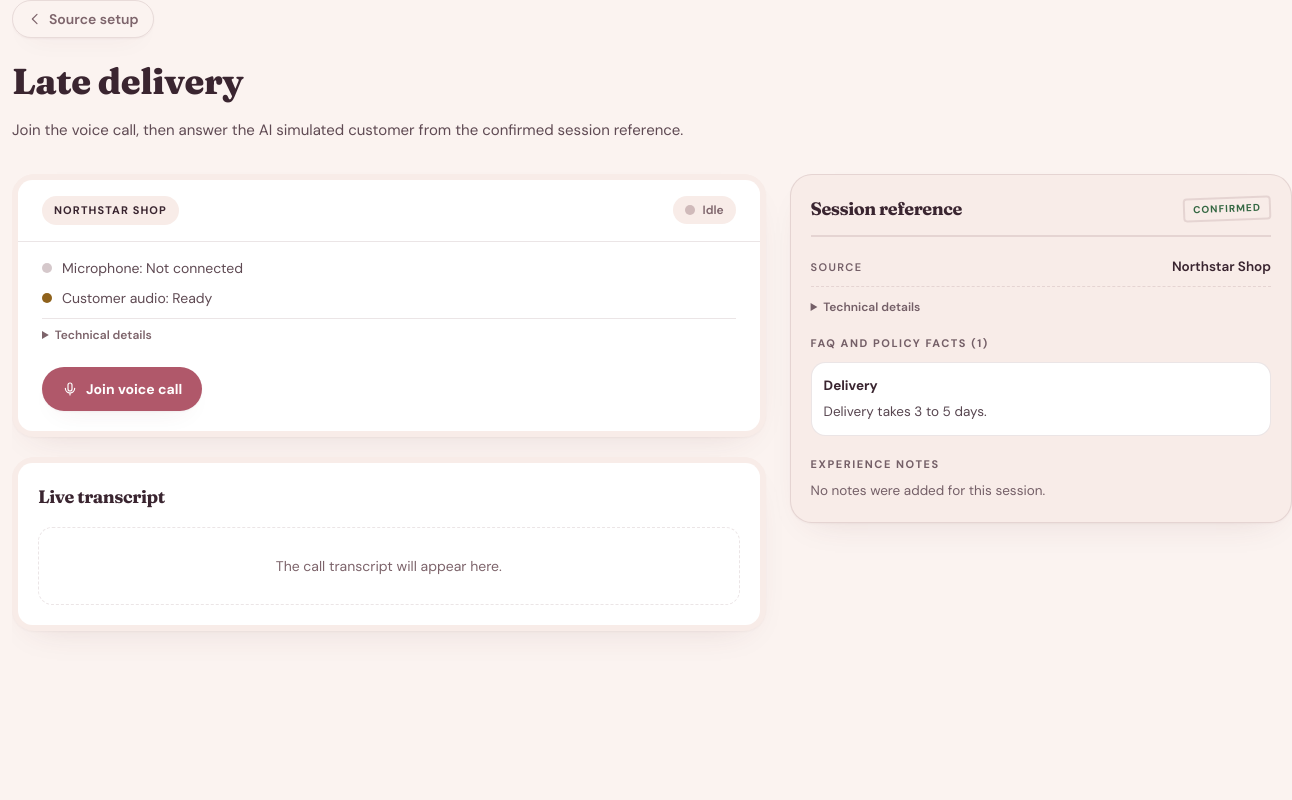
Test case: CallConsole voice-only practice › starts voice capture from Join and never renders text practice
Click the button "Join voice call" at (122, 389), box [42,367,202,411]
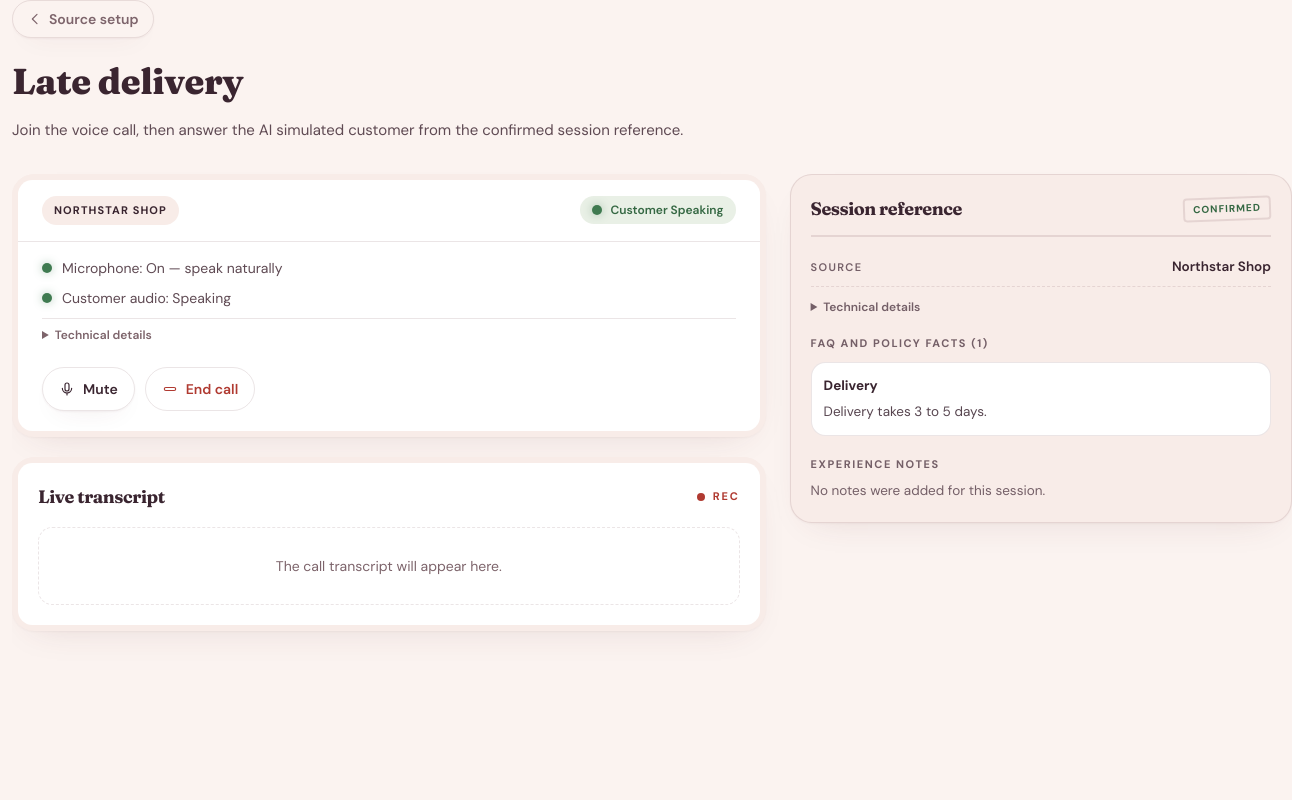
Expected: the text "Microphone: On — speak naturally" is shown, [62,258,282,278]
Expected: the button "Mute" is shown, [42,367,135,411]
